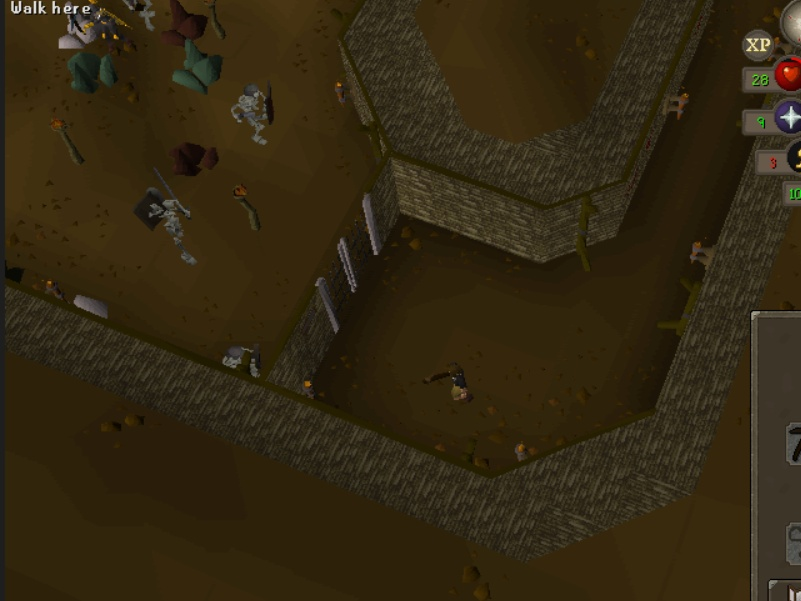adamant: (170, 36, 226, 101), (64, 46, 120, 99)
iron: (165, 135, 225, 181), (162, 1, 210, 46)
silver: (56, 1, 99, 54)
